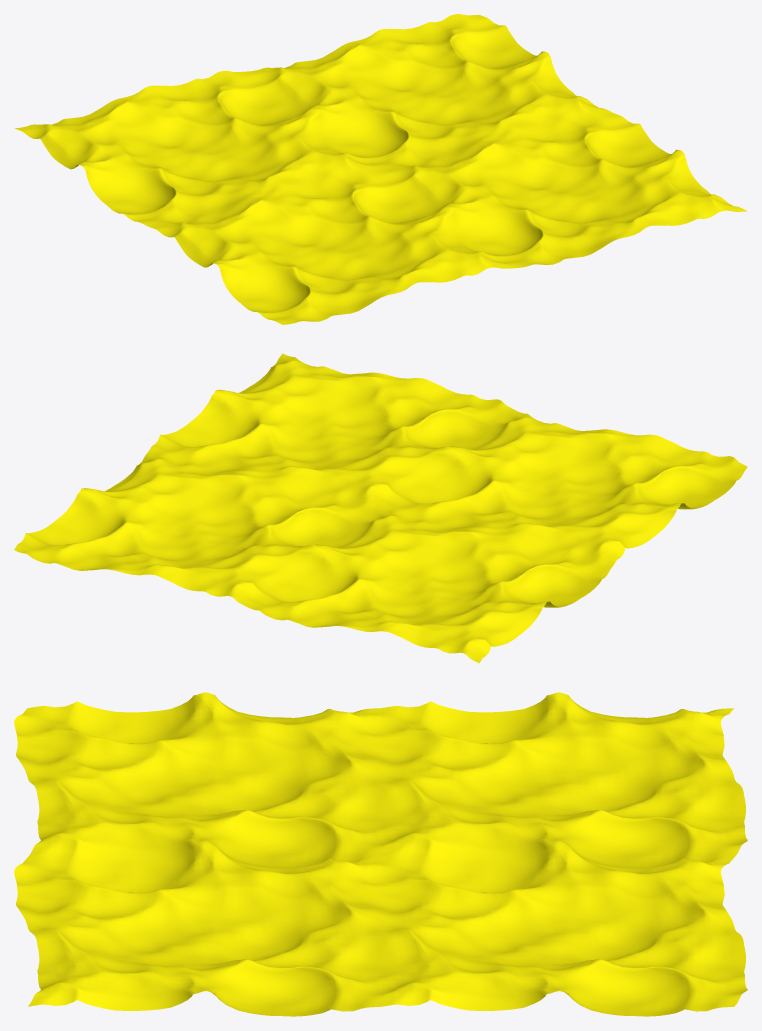
Rendered from abura2.fbx.
3 renders of one model, top to bottom at view 1: azimuth 30°, elevation 25°; view 2: azimuth 150°, elevation 25°; view 3: azimuth 270°, elevation 25°, orthographic. The views are drawn at different scales.
Visible parts, largest first — view 1: Cube; view 2: Cube; view 3: Cube.
Boxes of the visible parts, x1=… form: Cube: x1=14, y1=14, x2=746, y2=324; Cube: x1=14, y1=353, x2=747, y2=663; Cube: x1=14, y1=692, x2=747, y2=1016.
Size of the model in its own units: 10321 by 469 by 10385.
